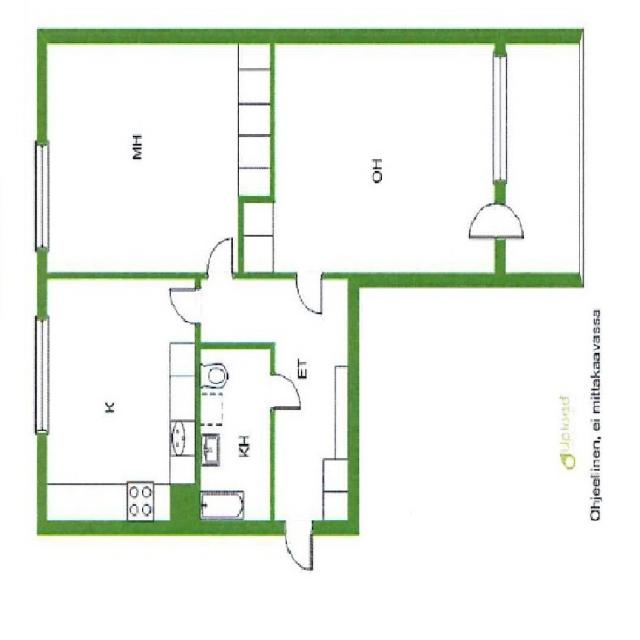door: (466, 204, 506, 236), (270, 374, 306, 409), (495, 204, 534, 236), (285, 521, 312, 567), (296, 272, 321, 308), (207, 244, 232, 278)
